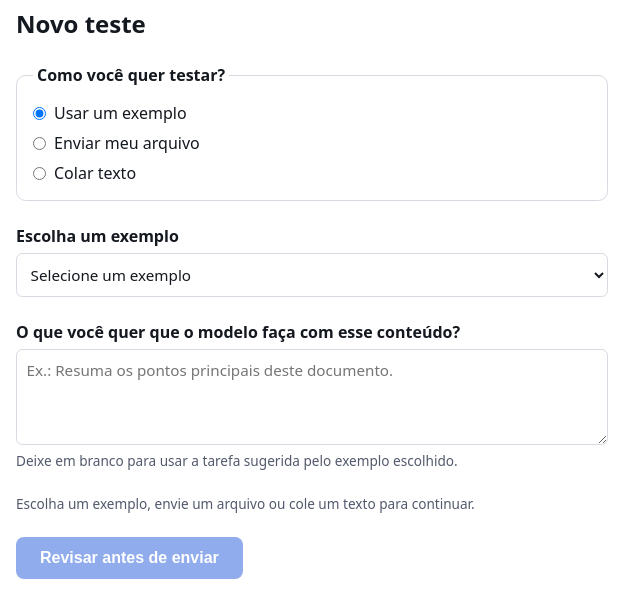
ComposeScreen -- entry modes and labels come from copy.ts › shows the example select by default and disables submit until one is chosen
Check: the button "Revisar antes de enviar" is disabled, box x1=16 y1=537 x2=243 y2=579
Select "ex-1" in the dropdown labelled "Escolha um exemplo" at (312, 275), box x1=16 y1=253 x2=608 y2=297
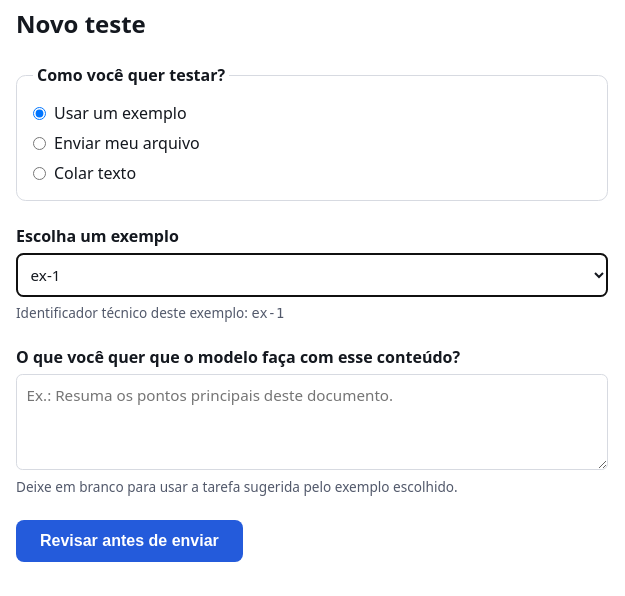
Check: the button "Revisar antes de enviar" is enabled, box x1=16 y1=520 x2=243 y2=562
